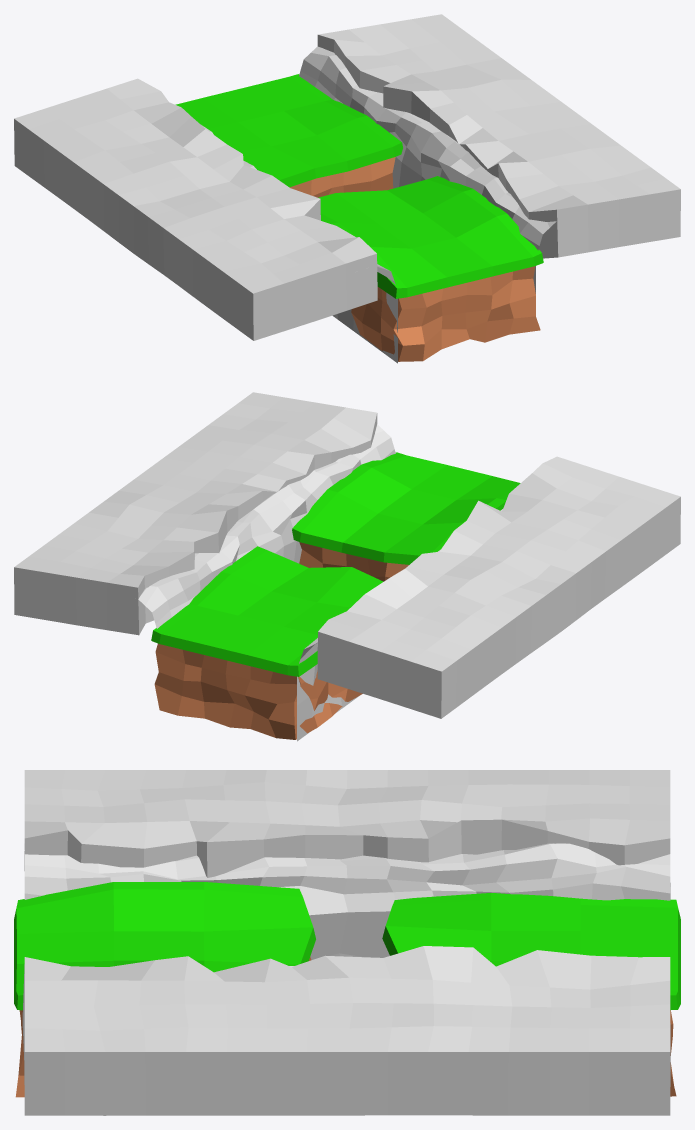
File: The Endgame Levels Final.fbx
3 views of the same model, one above another, from view 1: azimuth 30°, elevation 25°; view 2: azimuth 150°, elevation 25°; view 3: azimuth 270°, elevation 25° (orthographic). The views are drawn at different scales.
Visible parts, largest first — view 1: Plane.007, Plane.006, Plane.004, Plane.005; view 2: Plane.007, Plane.006, Plane.004, Plane.005; view 3: Plane.007, Plane.006, Plane.005, Plane.004.
Part boxes in pixels (left/top/right/bottom): Plane.007: left=14, top=14, right=680, bottom=340; Plane.006: left=175, top=74, right=543, bottom=298; Plane.004: left=289, top=157, right=540, bottom=361; Plane.005: left=201, top=46, right=556, bottom=363; Plane.007: left=14, top=392, right=680, bottom=718; Plane.006: left=151, top=452, right=520, bottom=676; Plane.004: left=154, top=542, right=408, bottom=739; Plane.005: left=138, top=424, right=502, bottom=741; Plane.007: left=22, top=770, right=670, bottom=1115; Plane.006: left=14, top=882, right=680, bottom=1010; Plane.005: left=24, top=843, right=670, bottom=967; Plane.004: left=15, top=957, right=676, bottom=1097.
Size of the model in its own units: 620 by 181 by 620.
